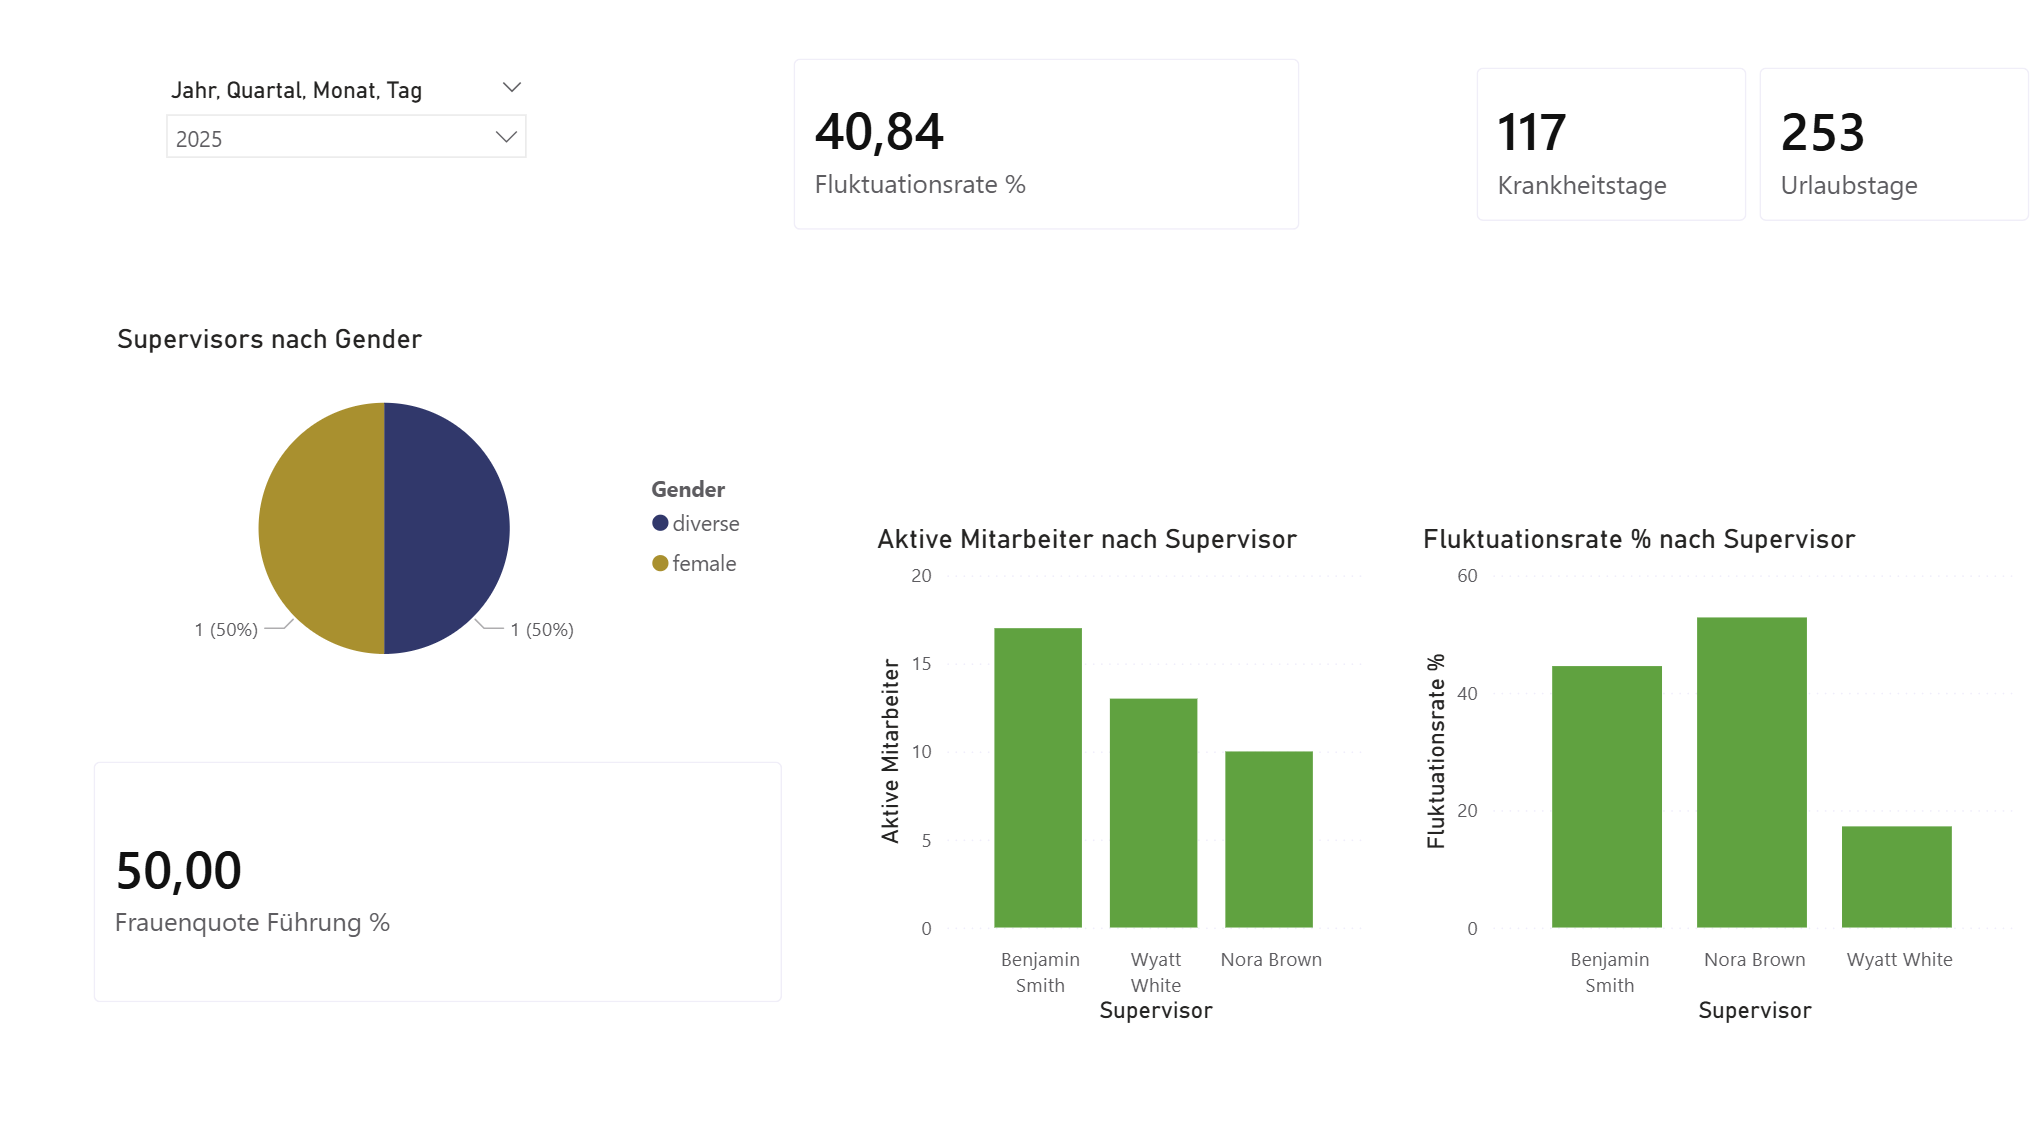

The dashboard page shown, as its layout file describes it:
{"tool":"powerbi","page":{"name":"Führungskräfte","canvas":[1280,720],"ordinal":1},"visuals":[{"type":"cardVisual","fields":{"Data":["MitarbeiterTabelle.Frauenquote Führung %"]},"box":[47.6,460.2,460.2,183.7],"z":1},{"type":"pieChart","fields":{"Category":["MitarbeiterTabelle.Gender"],"Y":["MitarbeiterTabelle.Test Supervisors"]},"box":[74.2,205.4,406.4,236.3],"z":2},{"type":"slicer","fields":{"Values":["Kalender.Date.Variation.Datumshierarchie.Jahr","Kalender.Date.Variation.Datumshierarchie.Quartal","Kalender.Date.Variation.Datumshierarchie.Monat","Kalender.Date.Variation.Datumshierarchie.Tag"]},"box":[99.6,48.9,243.1,68.7],"z":3},{"type":"cardVisual","fields":{"Data":["MitarbeiterTabelle.Fluktuationsrate %"]},"box":[480.6,25.4,347.6,140.4],"z":4},{"type":"cardVisual","fields":{"Data":["MitarbeiterTabelle.Krankheitstage","MitarbeiterTabelle.Urlaubstage"]},"box":[903.1,30.9,376.7,129.3],"z":5},{"type":"columnChart","fields":{"Category":["MitarbeiterTabelle.Supervisor"],"Y":["MitarbeiterTabelle.Fluktuationsrate %"]},"box":[882.1,329.1,376.7,314.8],"z":6},{"type":"columnChart","fields":{"Category":["MitarbeiterTabelle.Supervisor"],"Y":["MitarbeiterTabelle.Aktive Mitarbeiter"]},"box":[544.3,329.1,311.1,314.8],"z":7}]}

Visuals, with their boxes in screenshot pixels (x1, y1, x2, y2), scaled from the page's 1280x720 canvas onto the 2038x1136 screenshot:
cardVisual - MitarbeiterTabelle.Frauenquote Führung %: {"x1": 76, "y1": 726, "x2": 809, "y2": 1016}
pieChart - MitarbeiterTabelle.Gender x MitarbeiterTabelle.Test Supervisors: {"x1": 118, "y1": 324, "x2": 765, "y2": 697}
slicer - Kalender.Date.Variation.Datumshierarchie.Jahr x Kalender.Date.Variation.Datumshierarchie.Quartal: {"x1": 159, "y1": 77, "x2": 546, "y2": 186}
cardVisual - MitarbeiterTabelle.Fluktuationsrate %: {"x1": 765, "y1": 40, "x2": 1319, "y2": 262}
cardVisual - MitarbeiterTabelle.Krankheitstage x MitarbeiterTabelle.Urlaubstage: {"x1": 1438, "y1": 49, "x2": 2037, "y2": 253}
columnChart - MitarbeiterTabelle.Supervisor x MitarbeiterTabelle.Fluktuationsrate %: {"x1": 1404, "y1": 519, "x2": 2004, "y2": 1016}
columnChart - MitarbeiterTabelle.Supervisor x MitarbeiterTabelle.Aktive Mitarbeiter: {"x1": 867, "y1": 519, "x2": 1362, "y2": 1016}
